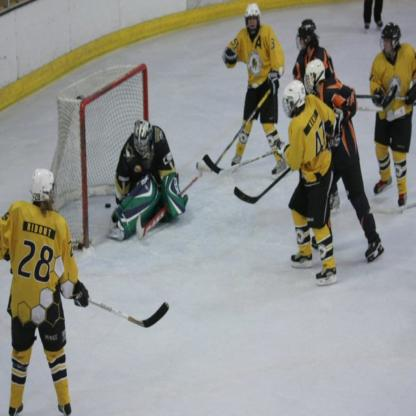Helmet: (29, 167, 57, 210), (300, 57, 325, 97), (279, 80, 305, 116), (292, 16, 318, 49), (379, 25, 401, 60), (135, 116, 154, 155), (244, 0, 262, 34)
